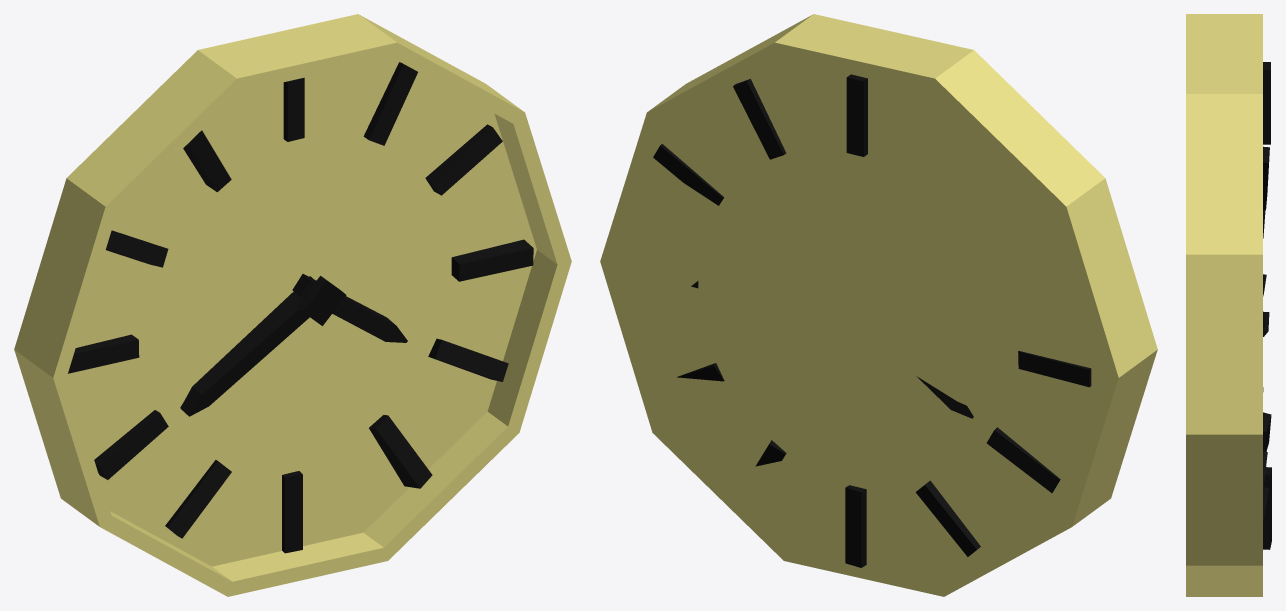
The model's file is clock.fbx.
3 views of the same model, side by side, from view 1: azimuth 30°, elevation 25°; view 2: azimuth 150°, elevation 25°; view 3: azimuth 270°, elevation 25° (orthographic).
Parts seen in each view (by area): view 1: Cylinder.030; view 2: Cylinder.030; view 3: Cylinder.030.
Part boxes in pixels (x1,y1,x2,y2): Cylinder.030: (14,14,571,596); Cylinder.030: (600,14,1157,596); Cylinder.030: (1186,14,1271,596).
Bounding box in the file's own units: 0.4953 × 0.4739 × 0.0721.
